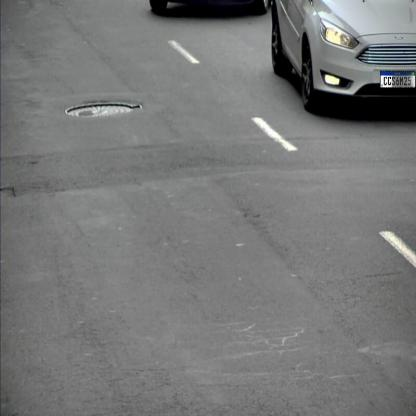PlacaM: (380, 71, 416, 88)
